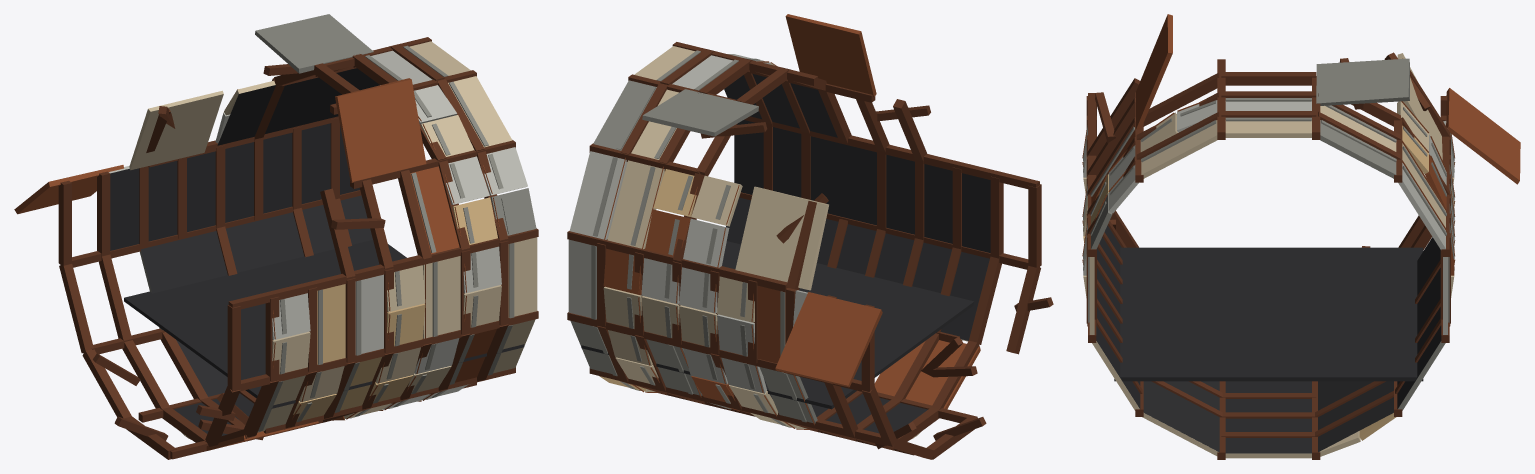
File: ship_hull_stern.glb
The picture shows the model from 3 angles, left to right: view 1: azimuth 30°, elevation 25°; view 2: azimuth 150°, elevation 25°; view 3: azimuth 270°, elevation 25°; orthographic projection. The views are drawn at different scales.
Parts seen in each view (by area): view 1: ship_hull_stern; view 2: ship_hull_stern; view 3: ship_hull_stern.
Part boxes in pixels (x1=…): ship_hull_stern: x1=14, y1=14, x2=538, y2=459; ship_hull_stern: x1=567, y1=14, x2=1053, y2=459; ship_hull_stern: x1=1082, y1=14, x2=1520, y2=459.
Size of the model in its own units: 39.53 by 39.38 by 42.54.
